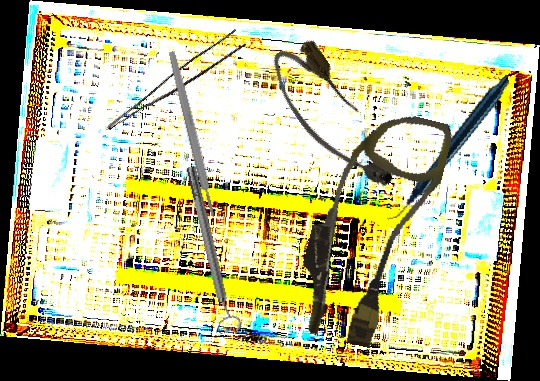Cannula: (287, 98, 455, 356), (261, 32, 404, 207)
Fixation Ring: (178, 163, 244, 336)
Handpiece: (359, 75, 536, 220)
Scalpel Handle: (166, 50, 218, 218)
Tissue Forceps: (106, 24, 248, 146)
